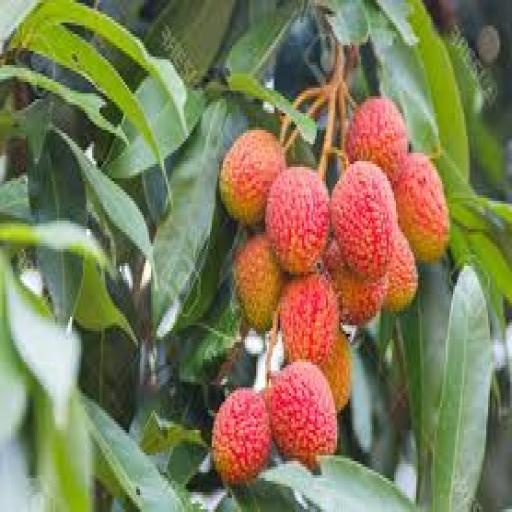lychee: (331, 162, 394, 280), (267, 363, 336, 466), (265, 167, 328, 274), (219, 131, 284, 226), (394, 153, 448, 263), (211, 388, 269, 483), (344, 97, 407, 181), (325, 241, 387, 325), (279, 275, 337, 364), (233, 235, 282, 330), (383, 230, 417, 311), (320, 331, 350, 410)
